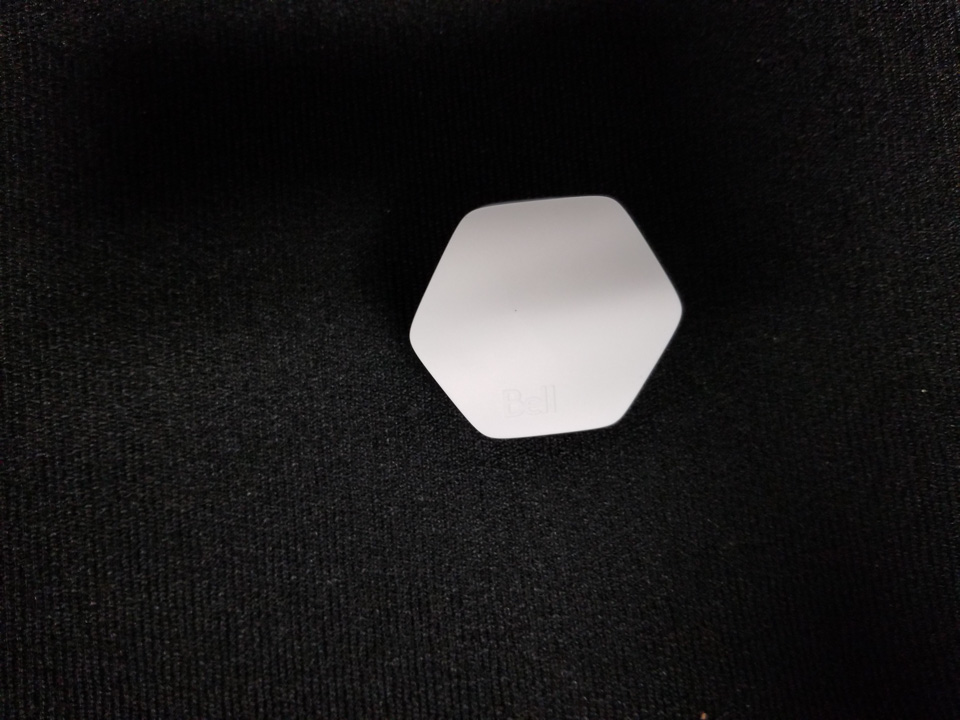pod: (406, 188, 689, 445)
